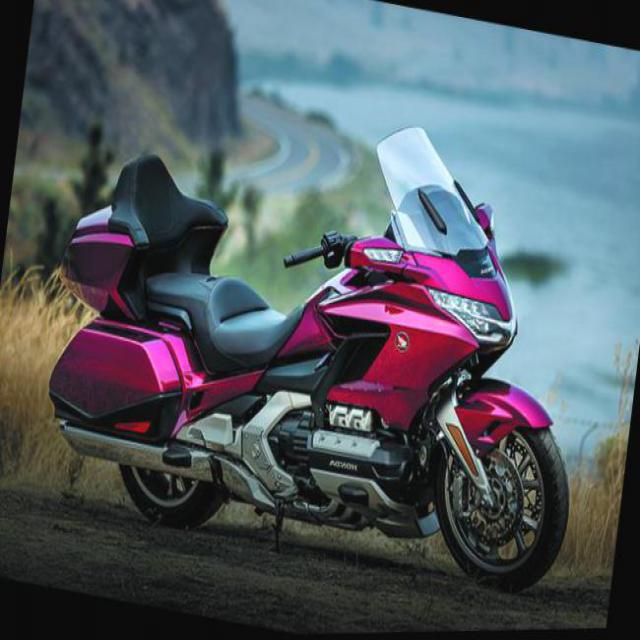Gold Wing: (34, 53, 612, 612)
